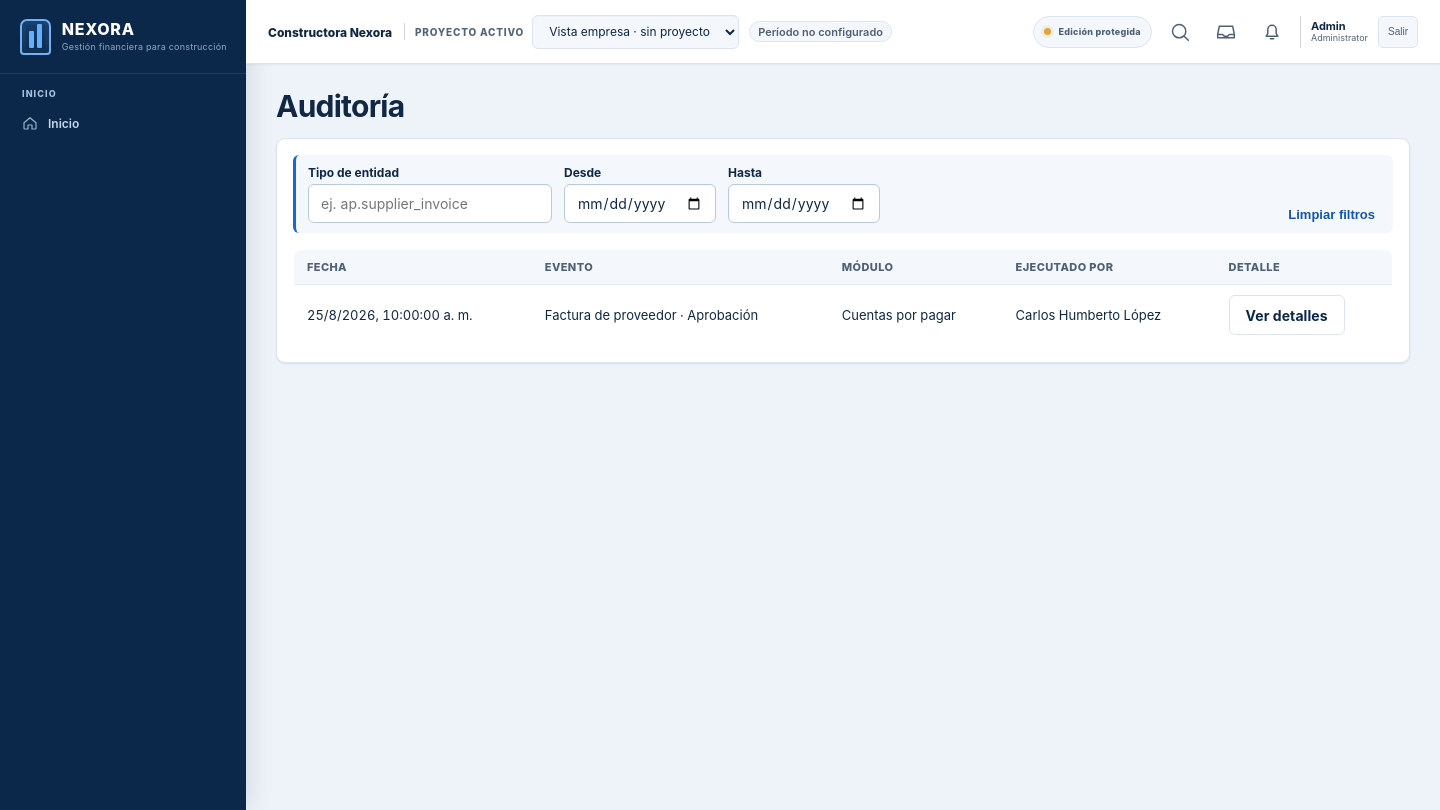
AuditLogPage › shows humanized events in the table and technical fields only in the detail drawer
Check: the text "Factura de proveedor · Aprobación" is shown, box [532, 285, 829, 346]
Check: the text "Cuentas por pagar" is shown, box [829, 285, 1003, 346]
Detail drawer: technical fields available on demand, secrets redacted.
Click the button "Ver detalles": coordinates (1287, 315) [1229, 295, 1345, 335]
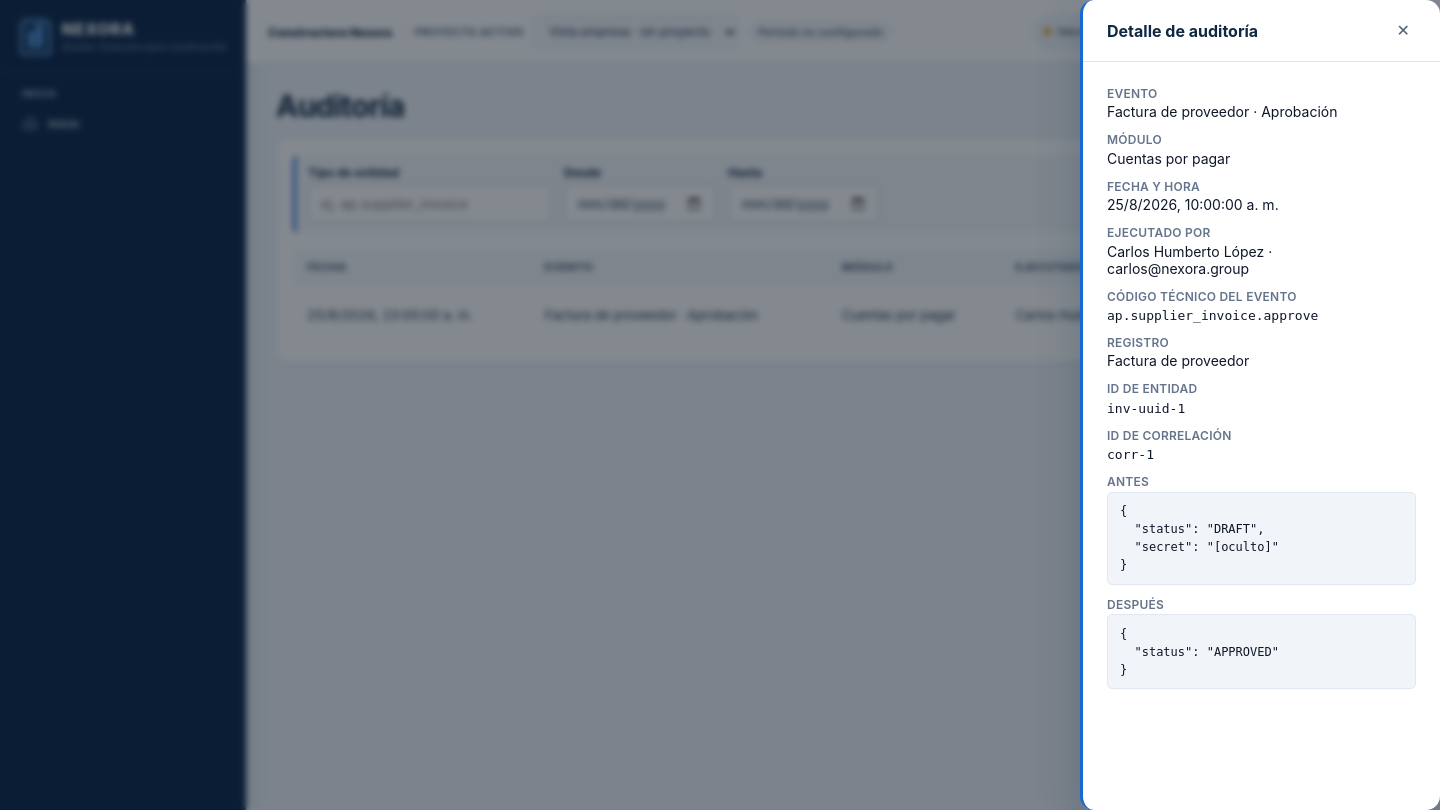
Check: the text "ap.supplier_invoice.approve" is shown, box [1107, 308, 1318, 323]
Check: the text "inv-uuid-1" is shown, box [1107, 401, 1185, 416]
Check: the text "corr-1" is shown, box [1107, 447, 1154, 462]
